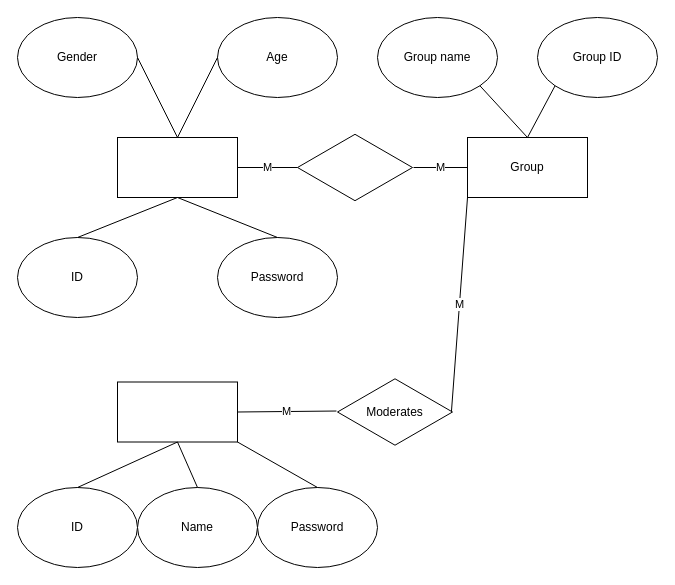
Image size: 675x585. Some labels were removed from this diagram. Here are the shapes that lost their labels. From the top down, the box of each, then its label:
(116, 136, 238, 198): Feedback provider (Employee/student)
(296, 132, 412, 202): Belongs to
(116, 381, 238, 442): Moderator
